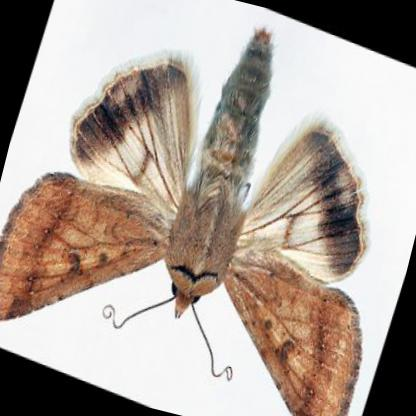helicoverpa: (0, 32, 372, 416)
